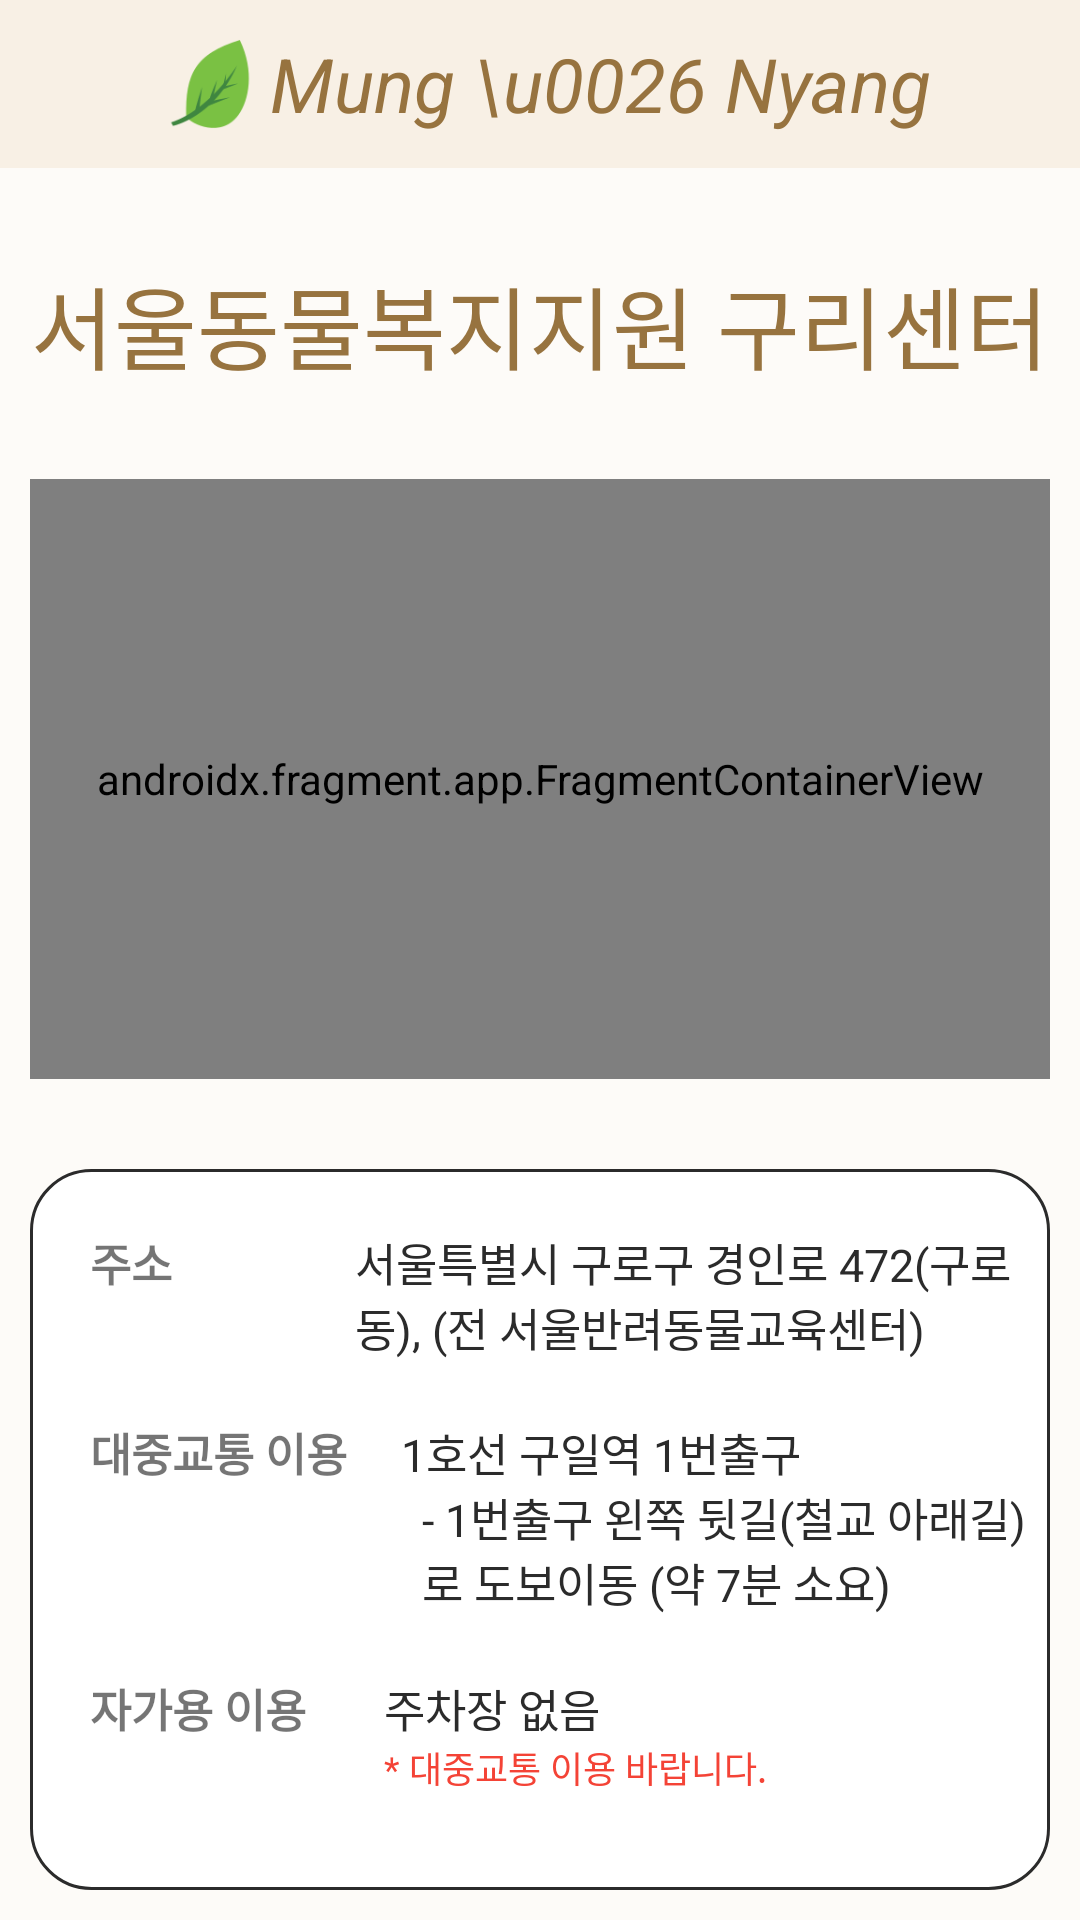

Where icons sit on this 1080 × 1920 app screen, as (x1, y1, x2, y2):
leaf: (171, 40, 250, 128)
